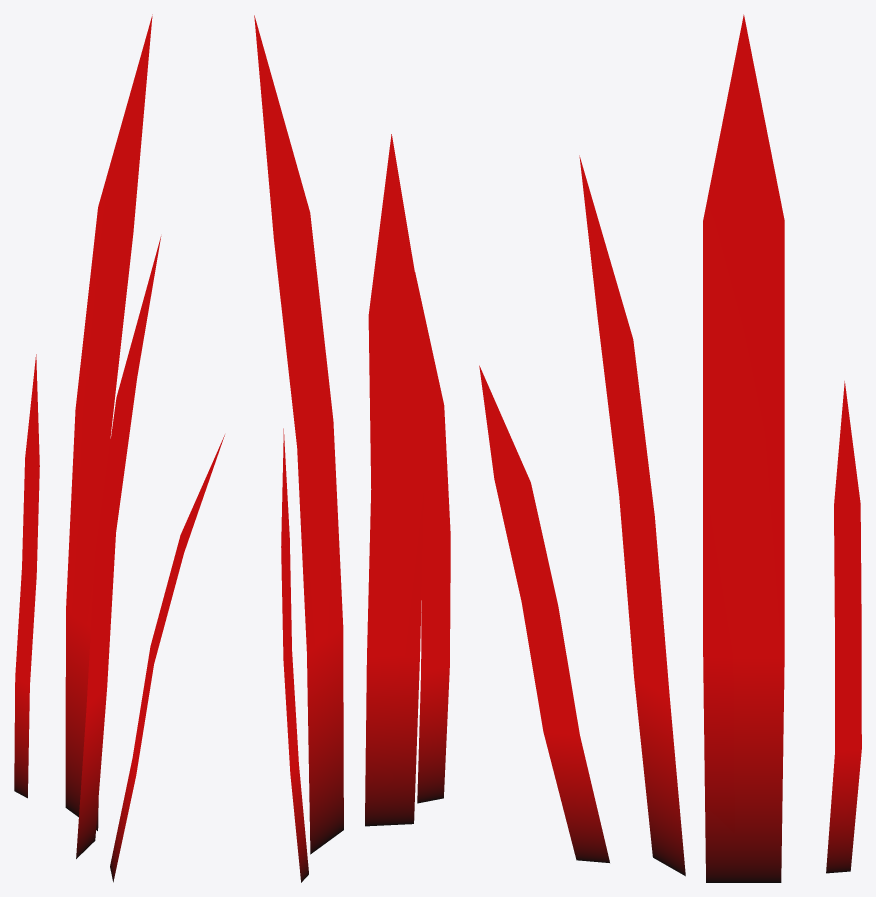
The model's file is Grass_LOD02.fbx.
3 renders of one model, left to right at view 1: azimuth 30°, elevation 25°; view 2: azimuth 150°, elevation 25°; view 3: azimuth 270°, elevation 25°, orthographic. The views are drawn at different scales.
Parts seen in each view (by area): view 1: Plane.010; view 2: Plane.010; view 3: Plane.010.
Boxes of the visible parts, bbox=[...] form: Plane.010: bbox=[14, 14, 224, 882]; Plane.010: bbox=[254, 15, 450, 882]; Plane.010: bbox=[479, 14, 861, 882].
Bounding box in the file's own units: 0.1246 × 0.8098 × 0.3088.
